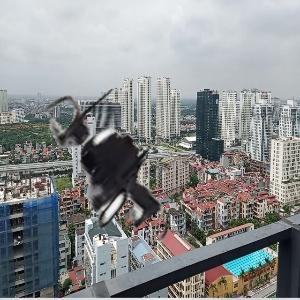drone: (6, 81, 201, 276)
